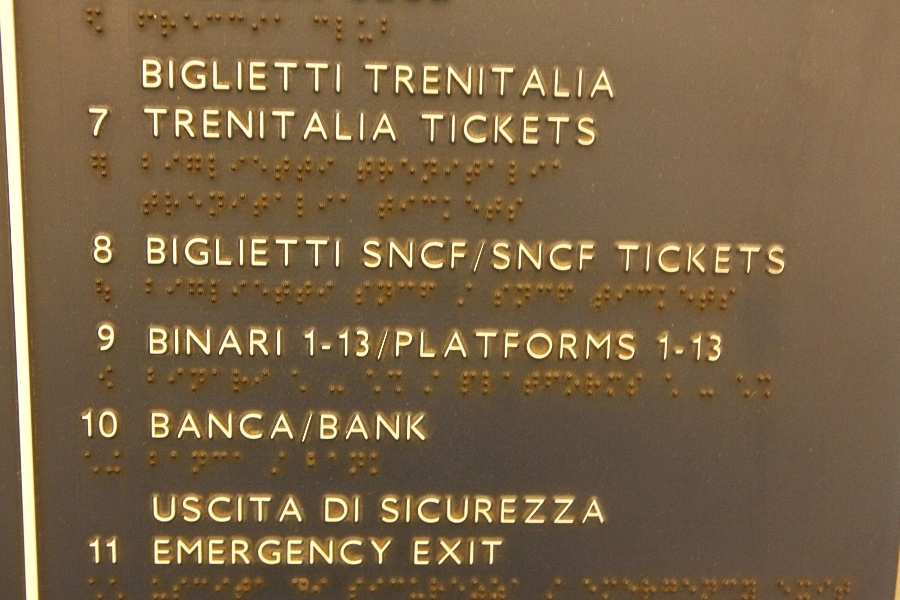text: (305, 326, 320, 364), (321, 326, 336, 364), (337, 326, 352, 364), (353, 326, 368, 364), (369, 326, 384, 364), (385, 326, 400, 364), (401, 326, 416, 364), (417, 326, 432, 364), (433, 326, 448, 364), (449, 326, 464, 364), (465, 326, 480, 364), (481, 326, 496, 364), (497, 326, 512, 364), (513, 326, 528, 364), (529, 326, 544, 364), (545, 326, 560, 364), (561, 326, 576, 364), (577, 326, 592, 364), (593, 326, 608, 364), (609, 326, 624, 364), (145, 59, 160, 95), (161, 59, 176, 95), (177, 59, 192, 95), (193, 59, 208, 95), (209, 59, 224, 95), (225, 59, 240, 95), (241, 59, 256, 95), (257, 59, 272, 95), (273, 59, 288, 95), (289, 59, 304, 95), (305, 59, 320, 95), (321, 59, 336, 95), (433, 114, 448, 150), (449, 114, 464, 150), (465, 114, 480, 150), (481, 114, 496, 150), (497, 114, 512, 150), (513, 114, 528, 150), (529, 114, 544, 150), (545, 114, 560, 150), (561, 114, 576, 150), (577, 114, 592, 150), (369, 239, 384, 274), (385, 239, 400, 274), (401, 239, 416, 274), (417, 239, 432, 274), (433, 239, 448, 274), (449, 239, 464, 274), (465, 239, 480, 274), (481, 239, 496, 274), (497, 239, 512, 274), (513, 239, 528, 274), (529, 239, 544, 274), (545, 239, 560, 274), (561, 239, 576, 274), (577, 239, 592, 274), (369, 63, 384, 97), (385, 63, 400, 97), (401, 63, 416, 97), (417, 63, 432, 97), (433, 63, 448, 97), (449, 63, 464, 97), (465, 63, 480, 97), (481, 63, 496, 97), (497, 63, 512, 97), (625, 244, 640, 278), (641, 244, 656, 278), (657, 244, 672, 278), (673, 244, 688, 278), (689, 244, 704, 278), (705, 244, 720, 278), (721, 244, 736, 278), (737, 244, 752, 278), (753, 244, 768, 278), (769, 244, 784, 278), (145, 109, 160, 142), (161, 109, 176, 142), (177, 109, 192, 142), (193, 109, 208, 142), (209, 109, 224, 142), (225, 109, 240, 142), (241, 109, 256, 142), (257, 109, 272, 142), (273, 109, 288, 142), (545, 67, 560, 99), (561, 67, 576, 99), (577, 67, 592, 99), (593, 67, 608, 99), (161, 237, 176, 269), (177, 237, 192, 269), (193, 237, 208, 269), (209, 237, 224, 269), (225, 237, 240, 269), (241, 237, 256, 269), (257, 237, 272, 269), (273, 237, 288, 269), (289, 237, 304, 269), (305, 237, 320, 269), (321, 237, 336, 269), (673, 332, 688, 364), (689, 332, 704, 364), (705, 332, 720, 364), (97, 236, 112, 267), (161, 327, 176, 358), (177, 327, 192, 358), (193, 327, 208, 358), (209, 327, 224, 358), (225, 327, 240, 358), (241, 327, 256, 358), (257, 327, 272, 358), (81, 409, 96, 440), (97, 409, 112, 440), (161, 412, 176, 443), (177, 412, 192, 443), (193, 412, 208, 443), (209, 412, 224, 443), (225, 412, 240, 443), (241, 412, 256, 443), (257, 412, 272, 443), (273, 412, 288, 443), (289, 412, 304, 443), (305, 412, 320, 443), (321, 412, 336, 443), (337, 412, 352, 443), (353, 412, 368, 443), (369, 412, 384, 443), (385, 412, 400, 443), (401, 412, 416, 443), (321, 112, 336, 142), (337, 112, 352, 142), (353, 112, 368, 142), (369, 112, 384, 142), (161, 495, 176, 525), (177, 495, 192, 525), (193, 495, 208, 525), (209, 495, 224, 525), (225, 495, 240, 525), (241, 495, 256, 525), (257, 495, 272, 525), (273, 495, 288, 525), (289, 495, 304, 525), (385, 496, 400, 526), (401, 496, 416, 526), (417, 496, 432, 526), (433, 496, 448, 526), (449, 496, 464, 526), (465, 496, 480, 526), (481, 496, 496, 526), (497, 496, 512, 526), (513, 496, 528, 526), (529, 496, 544, 526), (545, 496, 560, 526), (561, 496, 576, 526), (577, 496, 592, 526), (658, 332, 672, 364), (161, 539, 176, 568), (177, 539, 192, 568), (193, 539, 208, 568), (209, 539, 224, 568), (225, 539, 240, 568), (241, 539, 256, 568), (257, 539, 272, 568), (273, 539, 288, 568), (289, 539, 304, 568), (305, 539, 320, 568), (321, 539, 336, 568), (337, 539, 352, 568), (353, 539, 368, 568), (369, 539, 384, 568), (420, 114, 432, 150), (417, 539, 432, 567), (433, 539, 448, 567), (449, 539, 464, 567), (465, 539, 480, 567), (481, 539, 496, 567), (147, 237, 160, 269), (98, 324, 112, 353), (337, 498, 352, 525), (97, 538, 112, 565), (593, 496, 606, 526), (625, 326, 635, 364), (385, 112, 397, 142), (533, 67, 544, 99), (97, 108, 108, 139), (149, 327, 160, 358), (417, 412, 427, 443), (273, 327, 282, 358), (151, 412, 160, 443), (151, 495, 160, 525), (326, 498, 336, 525), (385, 539, 393, 568), (289, 109, 296, 142), (89, 108, 96, 139), (88, 538, 96, 565), (618, 244, 624, 278), (314, 112, 320, 142), (154, 539, 160, 568), (353, 498, 359, 525), (609, 67, 614, 99), (337, 59, 341, 95), (364, 239, 368, 274), (497, 539, 502, 567), (364, 63, 368, 97), (337, 237, 341, 269), (113, 409, 117, 440), (593, 114, 596, 150), (113, 538, 117, 565), (593, 239, 596, 274), (113, 324, 116, 353), (142, 59, 144, 95), (513, 63, 515, 97), (721, 332, 723, 364), (382, 496, 384, 526), (785, 244, 786, 278), (143, 109, 144, 142), (95, 236, 96, 267), (415, 539, 416, 567)
